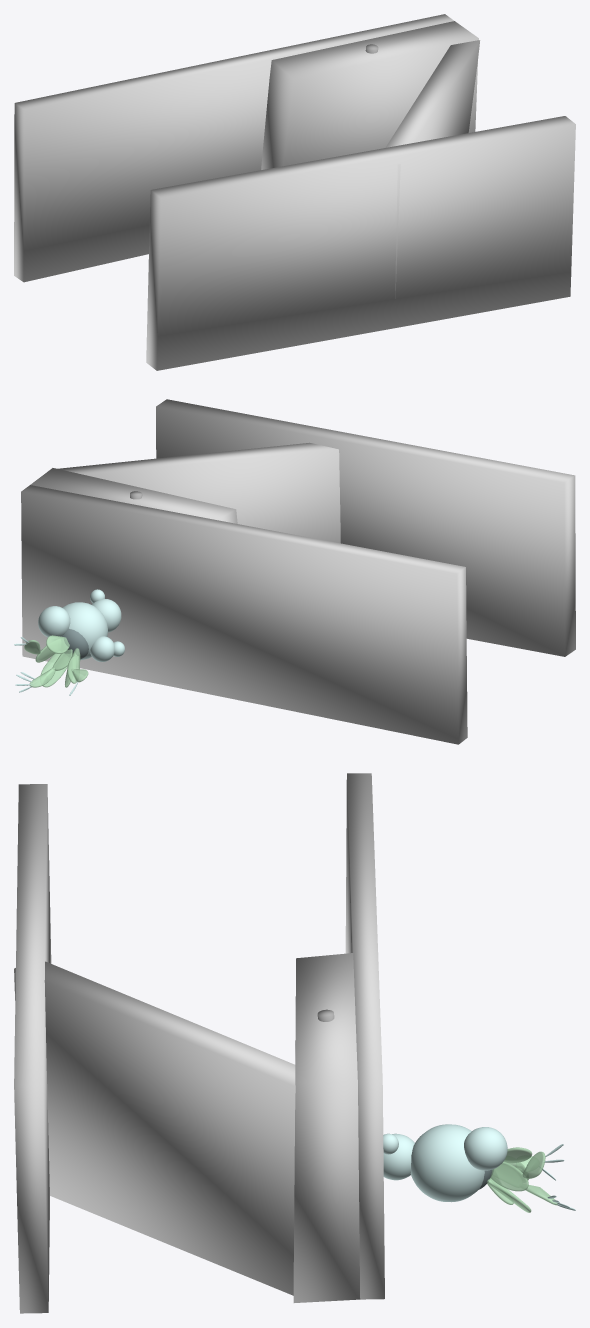
The model's file is desk.fbx.
3 renders of one model, top to bottom at view 1: azimuth 30°, elevation 25°; view 2: azimuth 150°, elevation 25°; view 3: azimuth 270°, elevation 25°, orthographic. The views are drawn at different scales.
Parts seen in each view (by area): view 1: desk; view 2: desk; view 3: desk.
Part boxes in pixels (left/top/right/bottom): desk: left=14, top=14, right=575, bottom=370; desk: left=14, top=399, right=575, bottom=744; desk: left=14, top=773, right=575, bottom=1313.
Size of the model in its own units: 6551 by 2864 by 5487.
